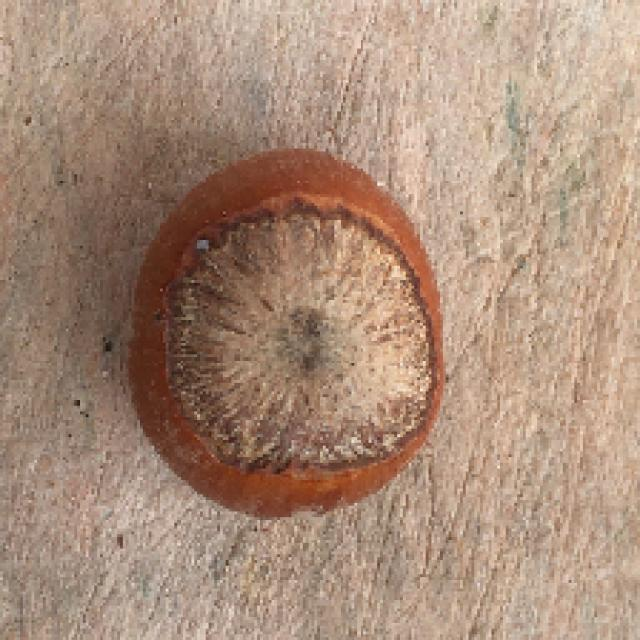qualityHazelnut: (104, 137, 452, 545)
